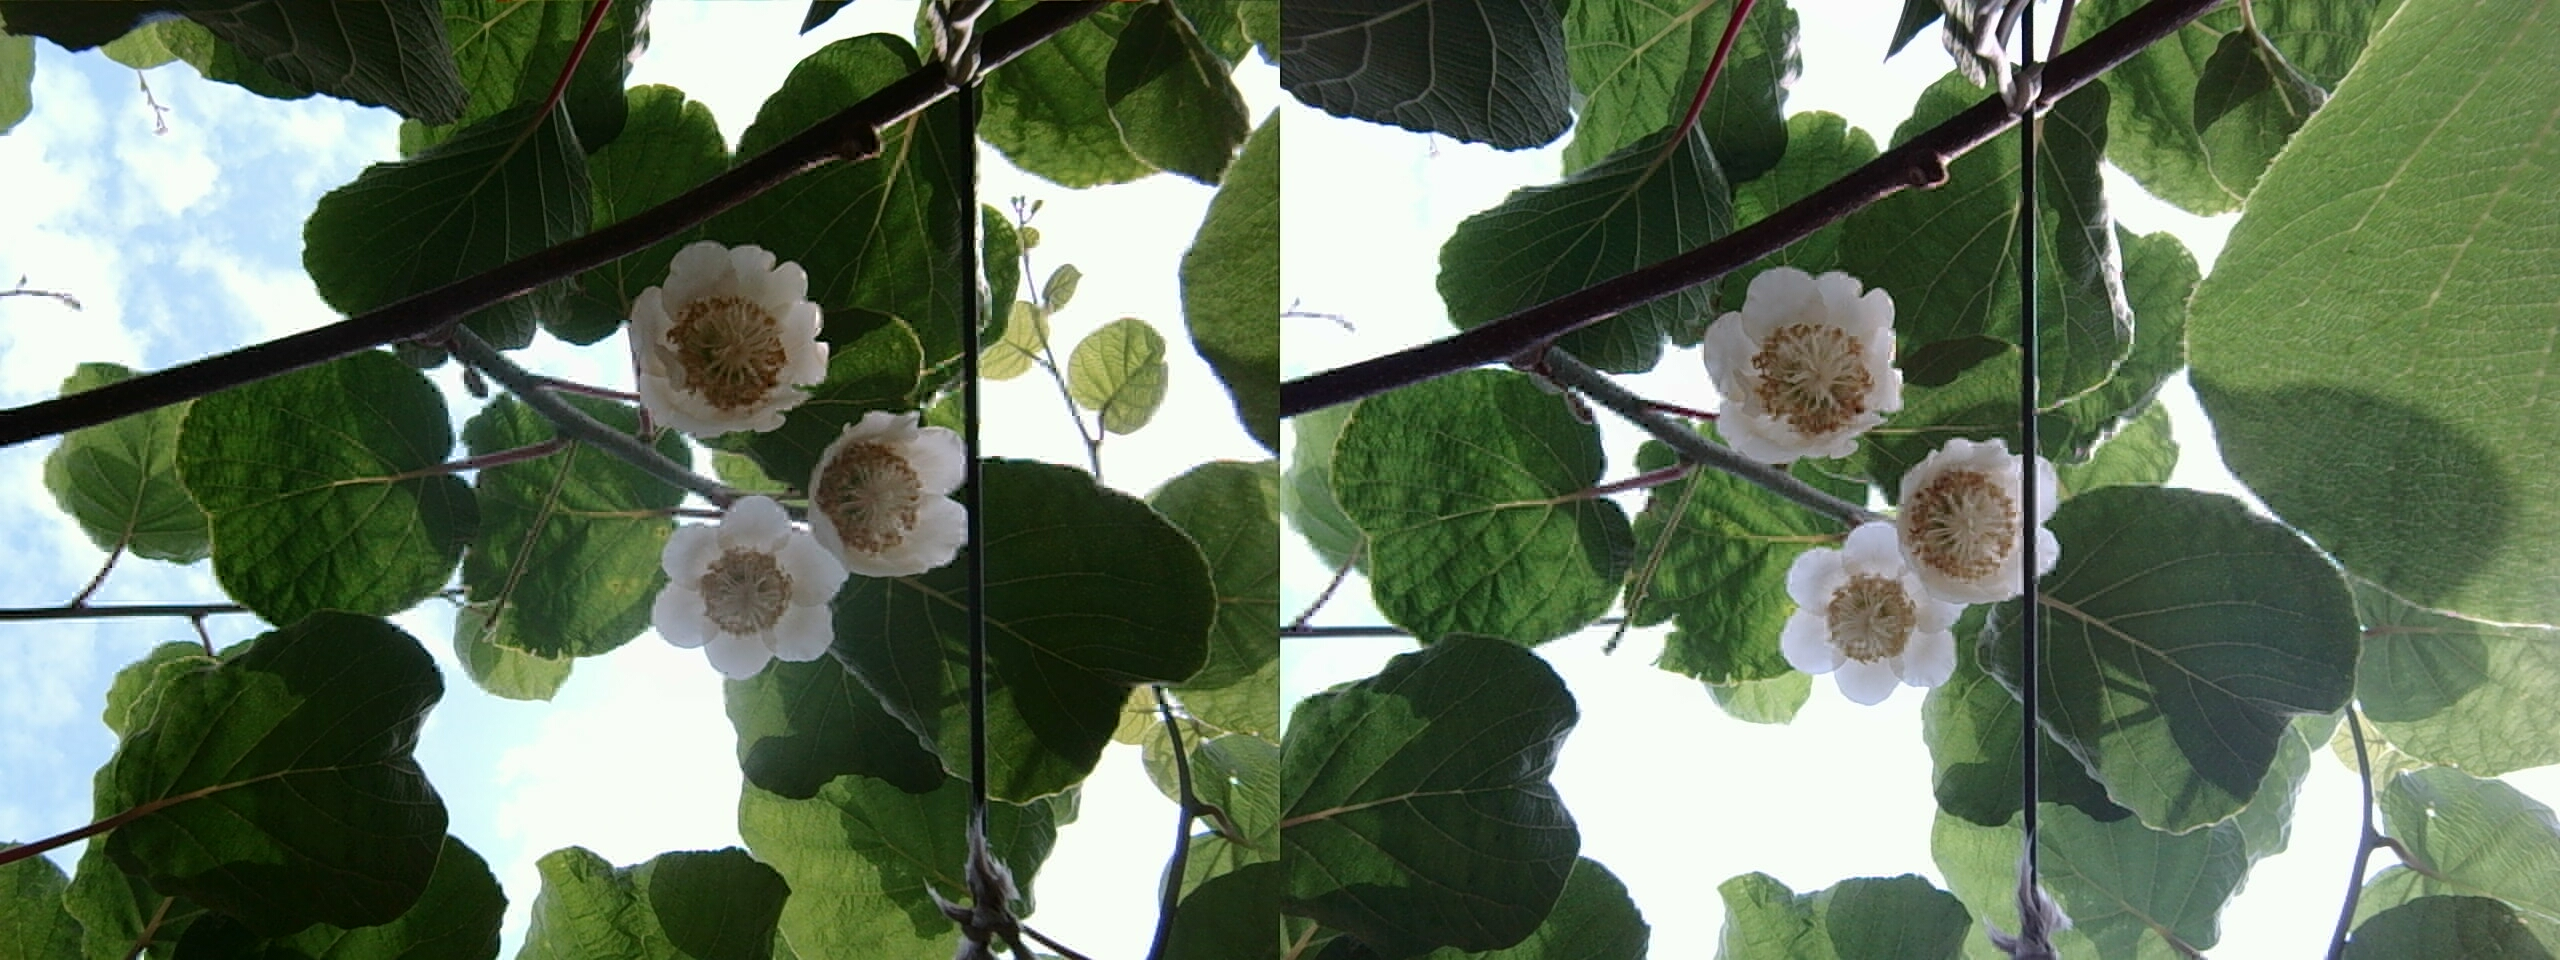flower: (625, 229, 831, 438), (1701, 258, 1900, 460), (650, 490, 844, 668), (1775, 518, 1971, 694), (1882, 434, 2049, 601), (807, 405, 967, 576)
